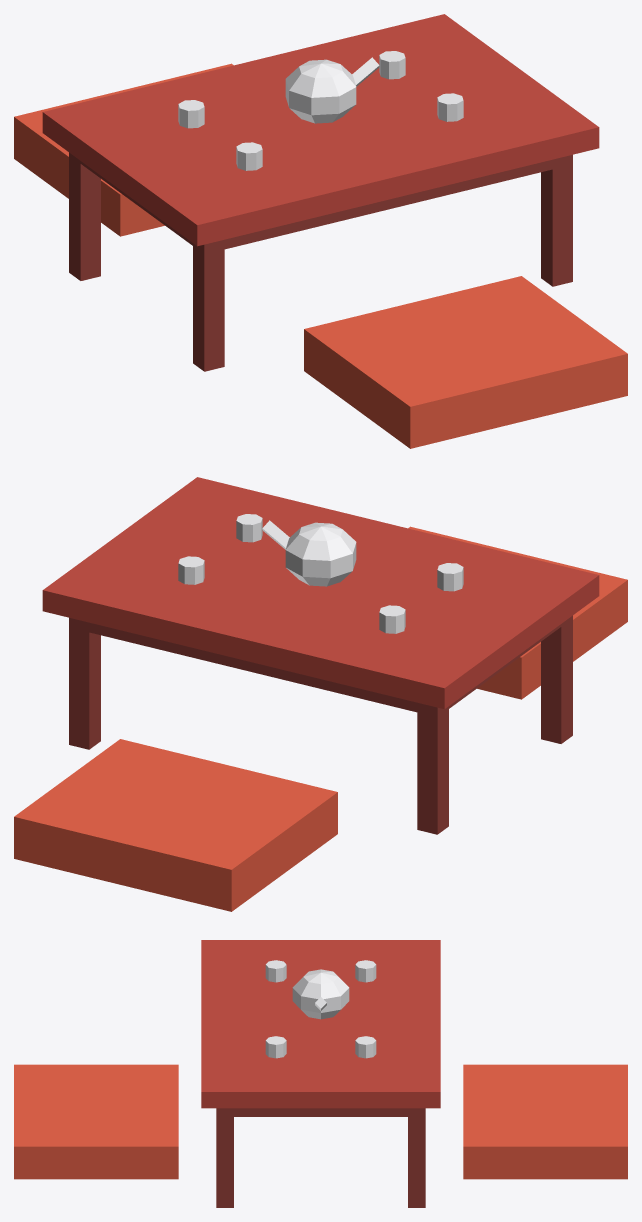
Rendered from cn_tea_table.glb.
3 views of the same model, one above another, from view 1: azimuth 30°, elevation 25°; view 2: azimuth 150°, elevation 25°; view 3: azimuth 270°, elevation 25° (orthographic). The views are drawn at different scales.
Visible parts, largest first — view 1: cn_tea_table; view 2: cn_tea_table; view 3: cn_tea_table.
Part boxes in pixels (left/top/right/bottom): cn_tea_table: left=14, top=14, right=627, bottom=448; cn_tea_table: left=14, top=477, right=627, bottom=911; cn_tea_table: left=14, top=940, right=627, bottom=1207.
Size of the model in its own units: 1.2 by 0.6099 by 2.05.
